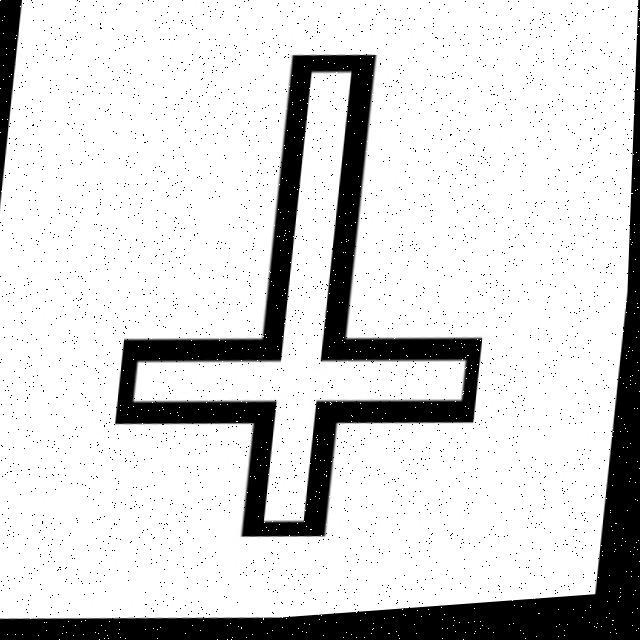cross: (96, 218, 513, 548)
